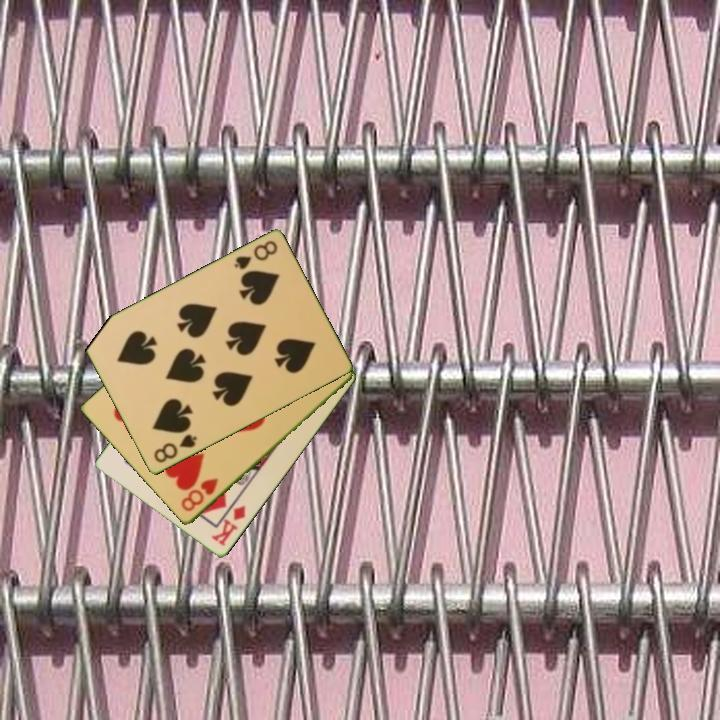8h: (177, 475, 221, 515)
8s: (230, 237, 280, 273), (150, 431, 200, 466)
Kd: (208, 502, 249, 549)
